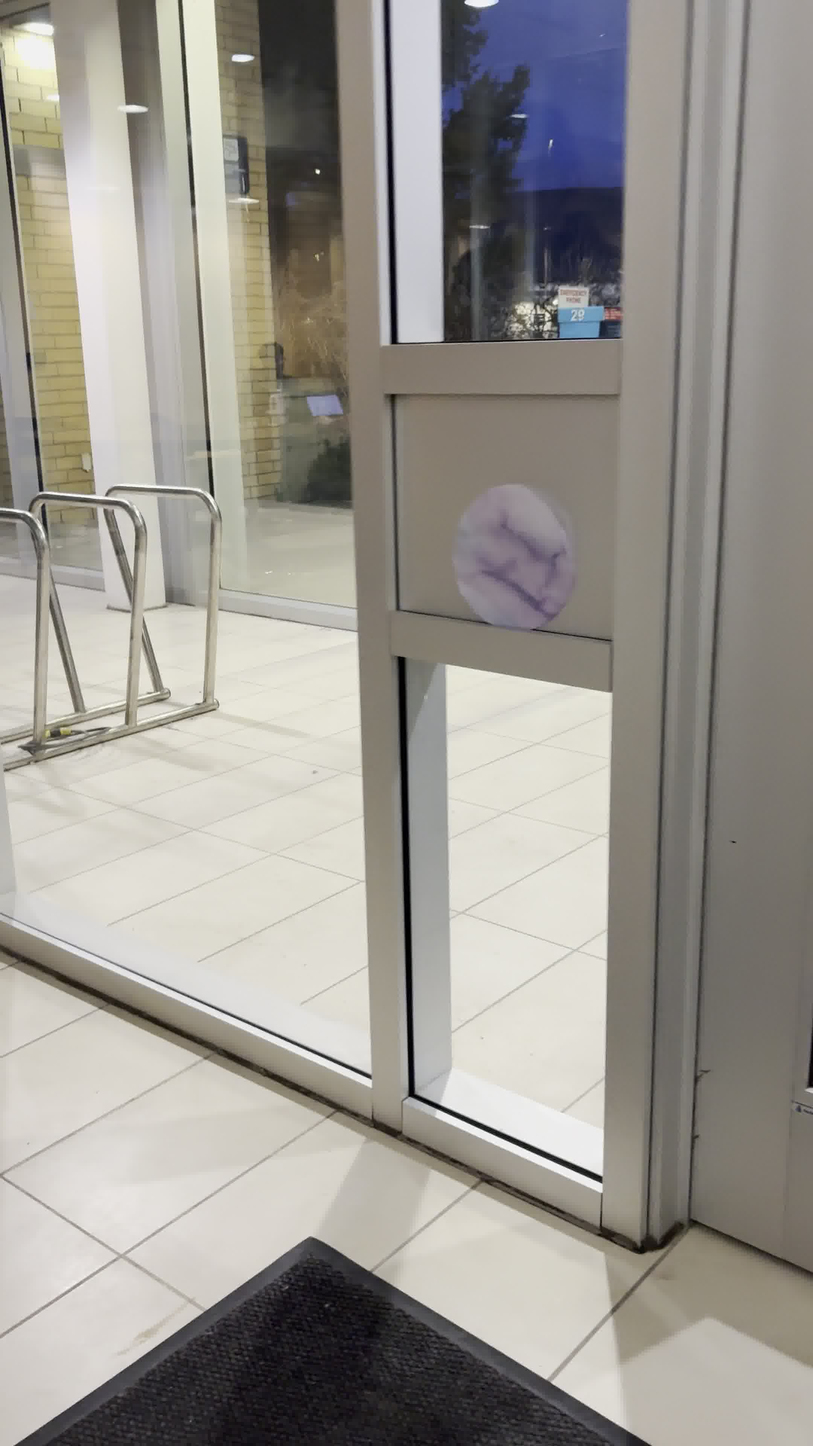Target: (451, 482, 579, 633)
